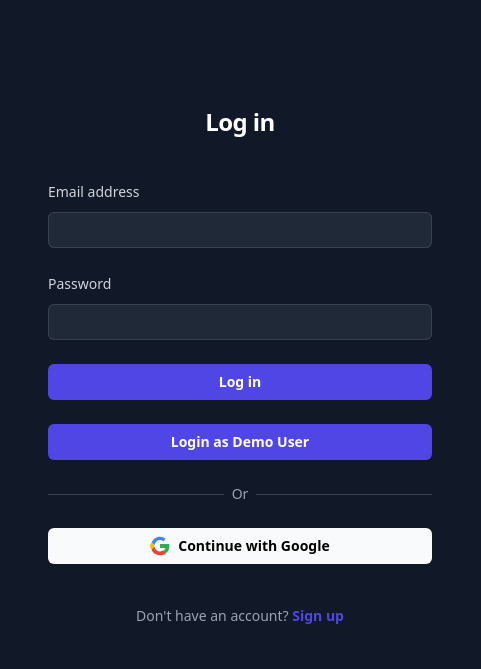
Test: LoginPage › displays an error message when login fails
Type "test@example.com" into the field labelled "Email address" at [240, 230], box [48,212,432,248]
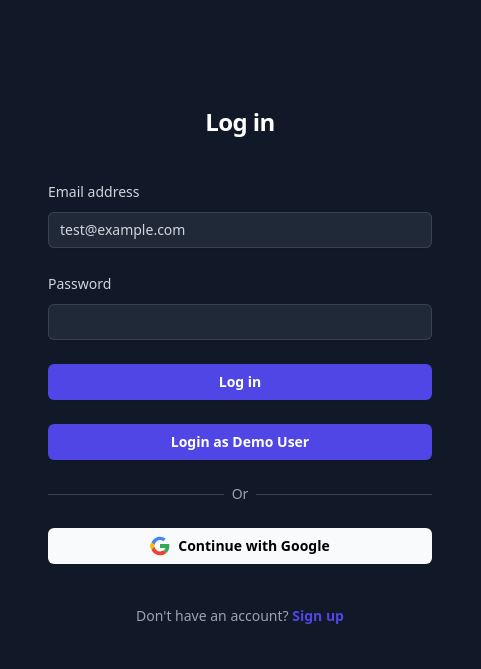
Type "password" into the password field labelled "Password" at [240, 322], box [48,304,432,340]
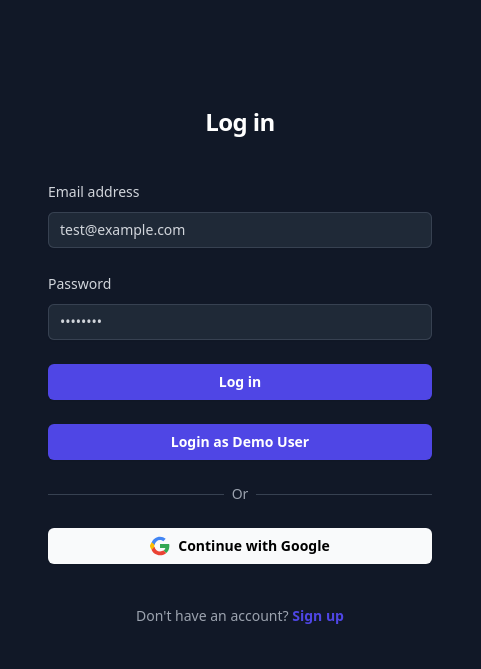
Click the button "Log in" at [240, 382], box [48,364,432,400]
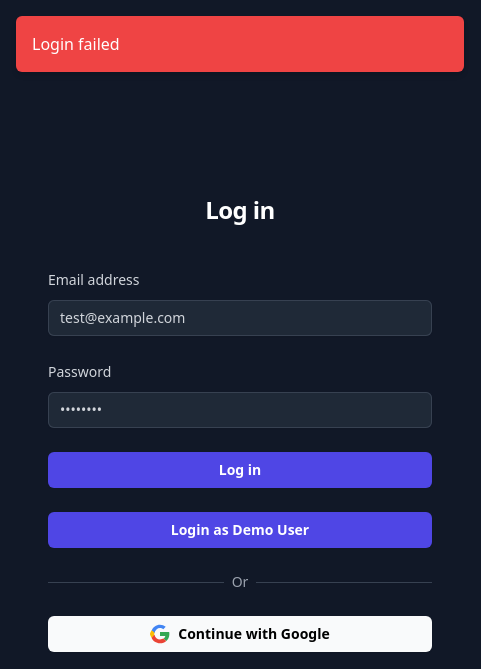
Expected: the text "Login failed" is shown, [16,16,464,72]
